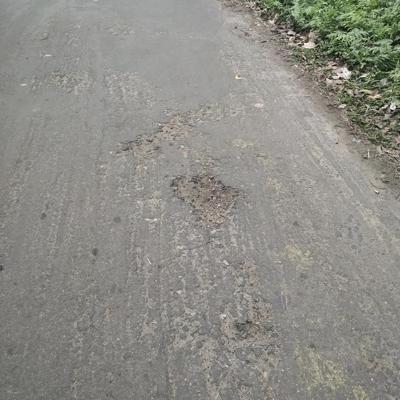pothole: (169, 169, 243, 227), (125, 113, 193, 160), (235, 321, 268, 345)
